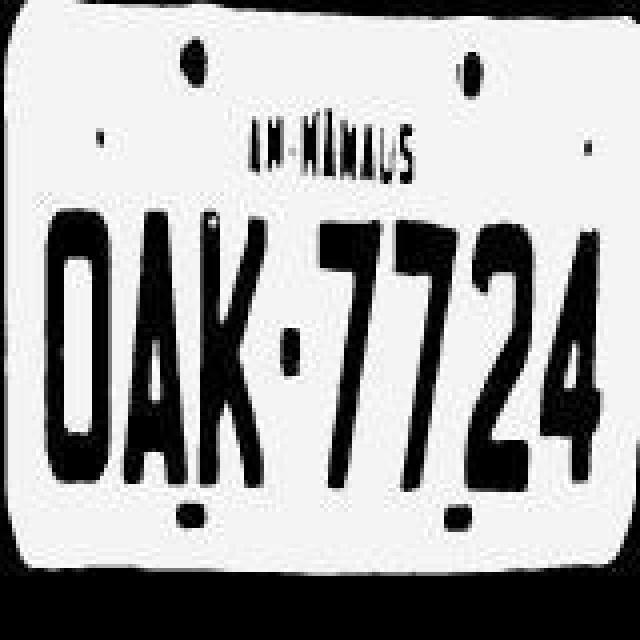2: (462, 222, 538, 498)
4: (538, 212, 614, 492)
7: (310, 204, 386, 500), (392, 208, 464, 504)
A: (120, 206, 192, 490)
K: (190, 194, 274, 494)
O: (26, 190, 118, 498)
